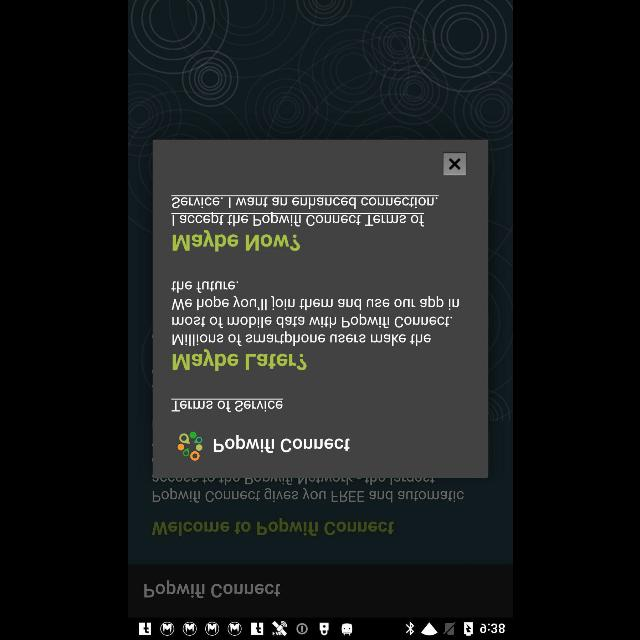icon: (443, 153, 465, 175)
image: (175, 432, 203, 460)
panel: (152, 140, 488, 477)
text: (172, 280, 458, 346), (152, 488, 464, 502), (151, 518, 393, 536), (172, 349, 306, 371), (212, 434, 352, 454), (172, 230, 298, 250), (143, 580, 279, 598), (171, 398, 283, 412)
textbutton: (169, 194, 437, 226)
uppertaskbar: (128, 617, 512, 639)
